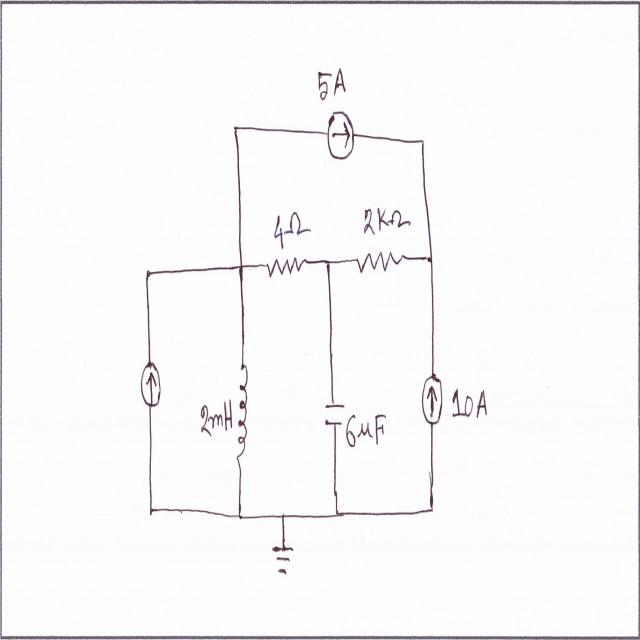capacitor: (323, 391, 347, 437)
current_source: (324, 100, 356, 168), (419, 366, 446, 435), (138, 355, 165, 416)
ground: (270, 530, 297, 581)
inductor: (234, 346, 251, 477)
resistor: (351, 243, 407, 282), (263, 246, 307, 282)
